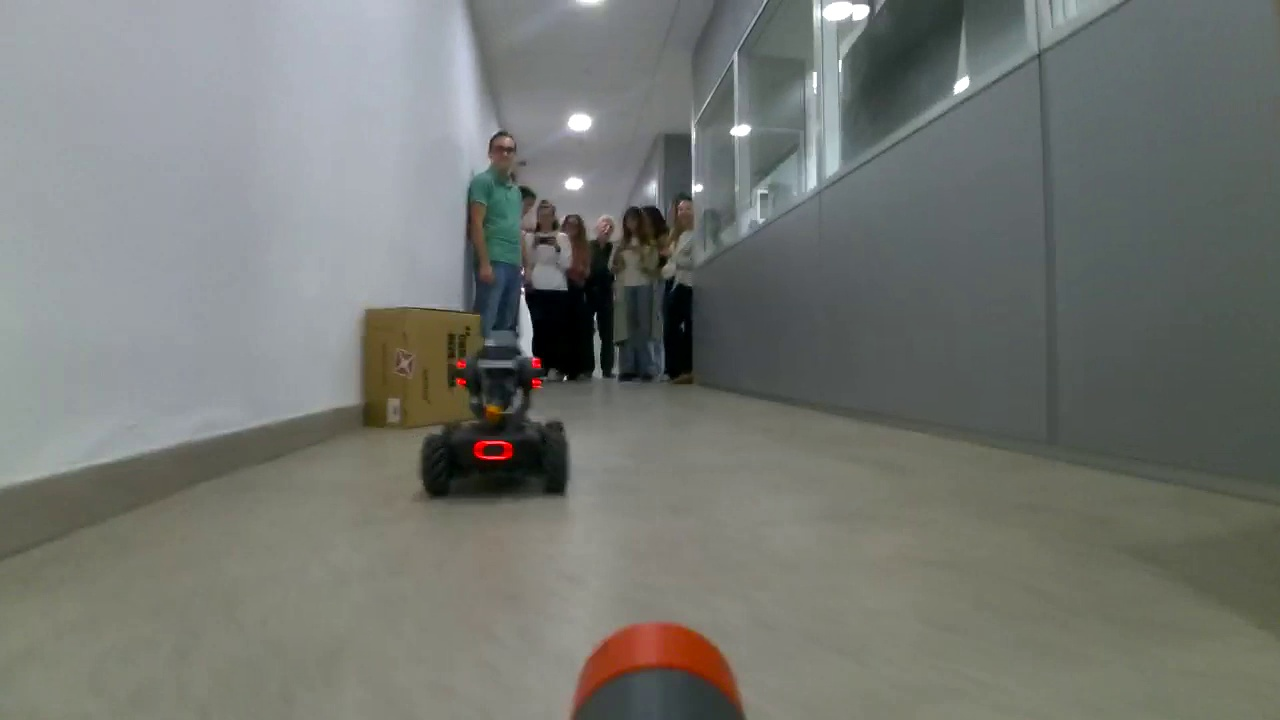robot: (420, 334, 573, 503)
